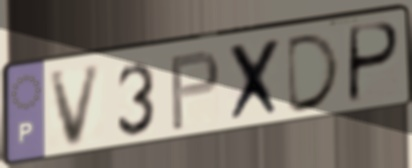3: (114, 59, 157, 138)
D: (285, 29, 344, 117)
P: (345, 19, 403, 107), (167, 47, 223, 134)
V: (46, 60, 106, 152)
X: (226, 34, 284, 127)
